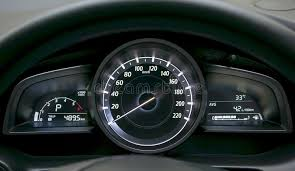Digital_Meter: (58, 113, 89, 124)
